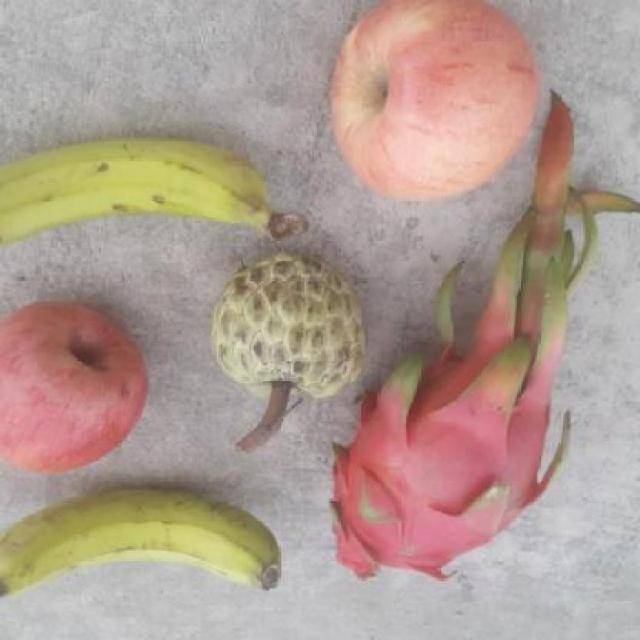apple: (316, 1, 542, 201), (0, 294, 154, 474)
banana: (0, 481, 288, 639), (0, 131, 295, 271)
dragon fruit: (325, 316, 573, 582)
sugar apple: (202, 244, 373, 413)
